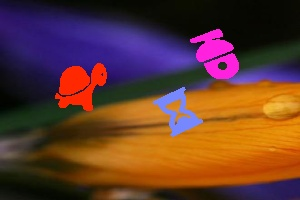乌龟: (54, 65, 107, 114)
摄像头: (185, 28, 244, 79)
沙漏: (152, 87, 203, 137)
